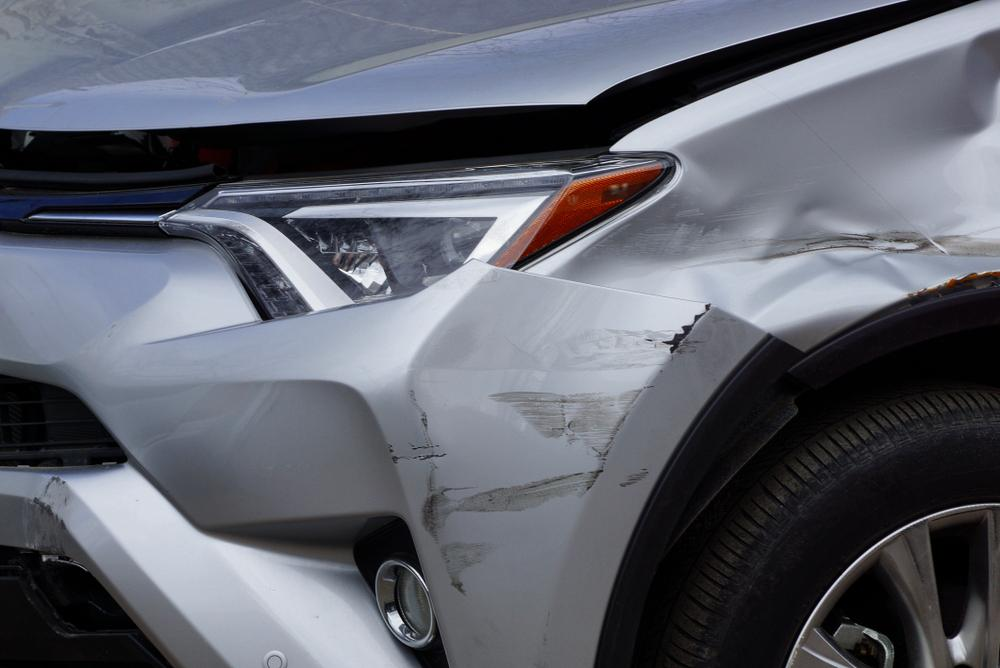dent: (551, 30, 1000, 330)
scratch: (386, 312, 720, 597), (20, 476, 71, 558)
